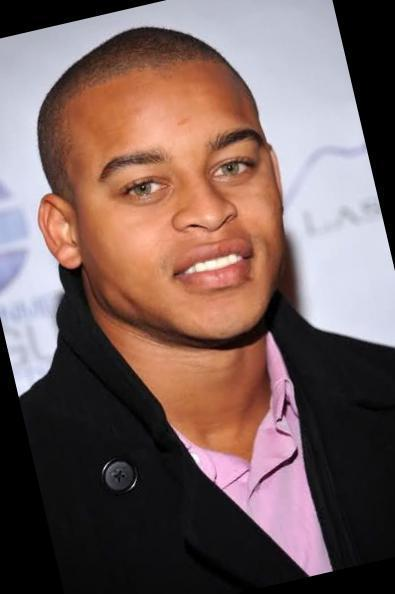Sober: (73, 75, 276, 336)
